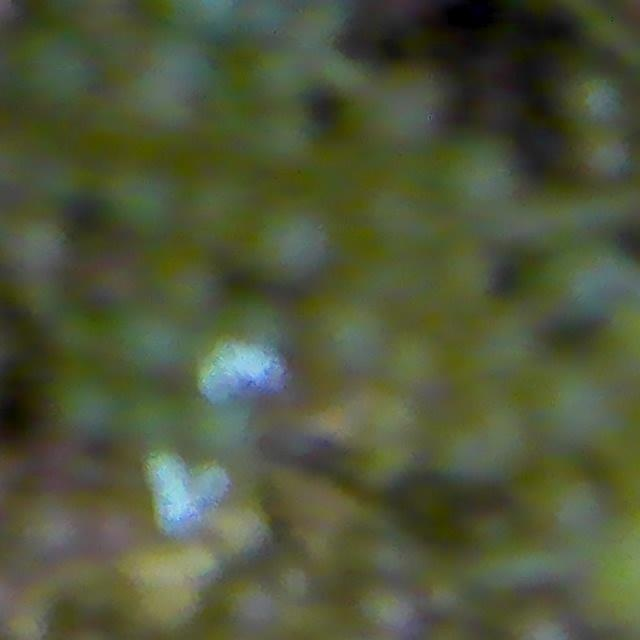SeaGrape: (431, 385, 541, 489), (531, 360, 629, 456), (21, 10, 109, 106), (543, 238, 638, 324), (363, 63, 451, 153), (523, 468, 611, 552), (7, 488, 100, 567), (438, 133, 522, 219), (252, 198, 337, 282), (103, 159, 187, 239), (309, 295, 390, 376), (465, 306, 541, 384), (114, 302, 190, 377), (51, 367, 126, 443), (184, 169, 256, 246), (152, 25, 227, 92), (385, 327, 455, 396), (151, 251, 221, 319), (247, 105, 316, 173), (1, 214, 70, 281), (248, 44, 315, 107), (561, 69, 627, 132), (238, 0, 289, 39)
